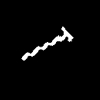half_double_crochet: (22, 27, 72, 59)
